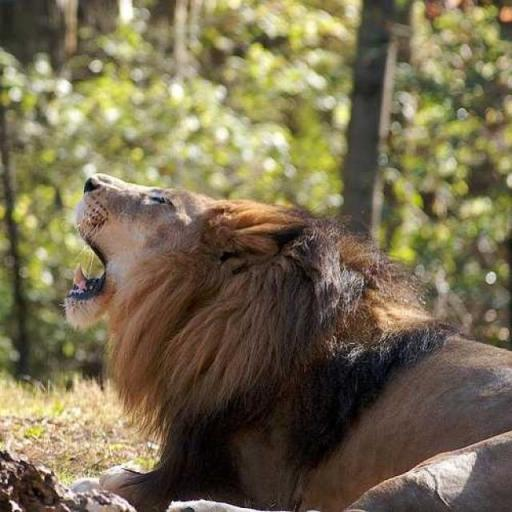Lion: (60, 170, 511, 512)
